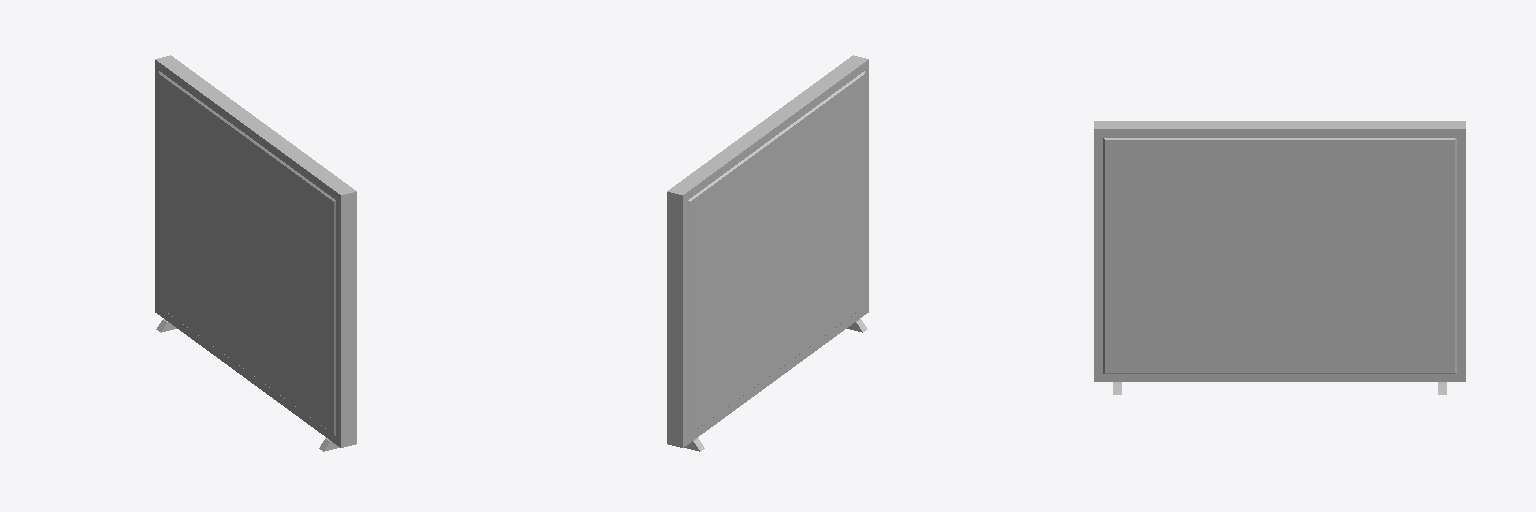
Rendered from separator.obj.
The picture shows the model from 3 angles: view 1: azimuth 30°, elevation 25°; view 2: azimuth 150°, elevation 25°; view 3: azimuth 270°, elevation 25°; orthographic projection.
Parts seen in each view (by area): view 1: seperator_Cube.011; view 2: seperator_Cube.011; view 3: seperator_Cube.011.
Boxes of the visible parts, box(x1,y1,x2,y2) form: seperator_Cube.011: box(155, 55, 356, 451); seperator_Cube.011: box(667, 55, 868, 451); seperator_Cube.011: box(1094, 121, 1465, 394).
Bounding box in the file's own units: 2 × 15.5 × 20.